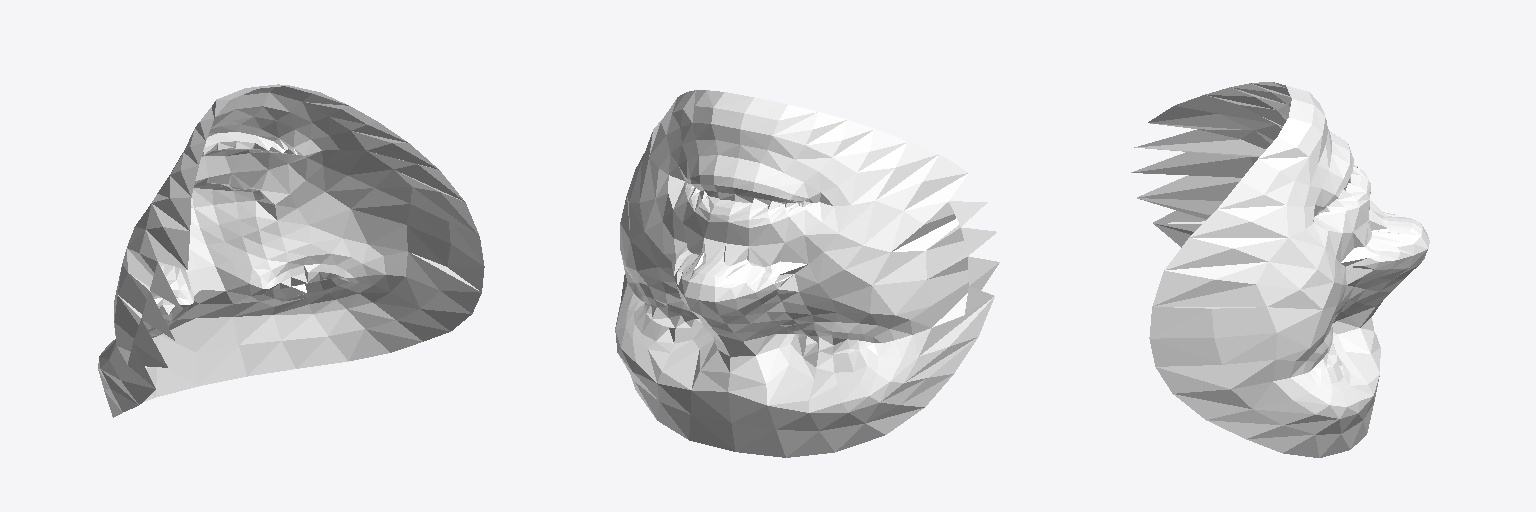
File: IMG_20210811_124815.obj
The picture shows the model from 3 angles: view 1: azimuth 30°, elevation 25°; view 2: azimuth 150°, elevation 25°; view 3: azimuth 270°, elevation 25°; orthographic projection.
Bounding box in the file's own units: 1.91 × 1.8 × 1.52.